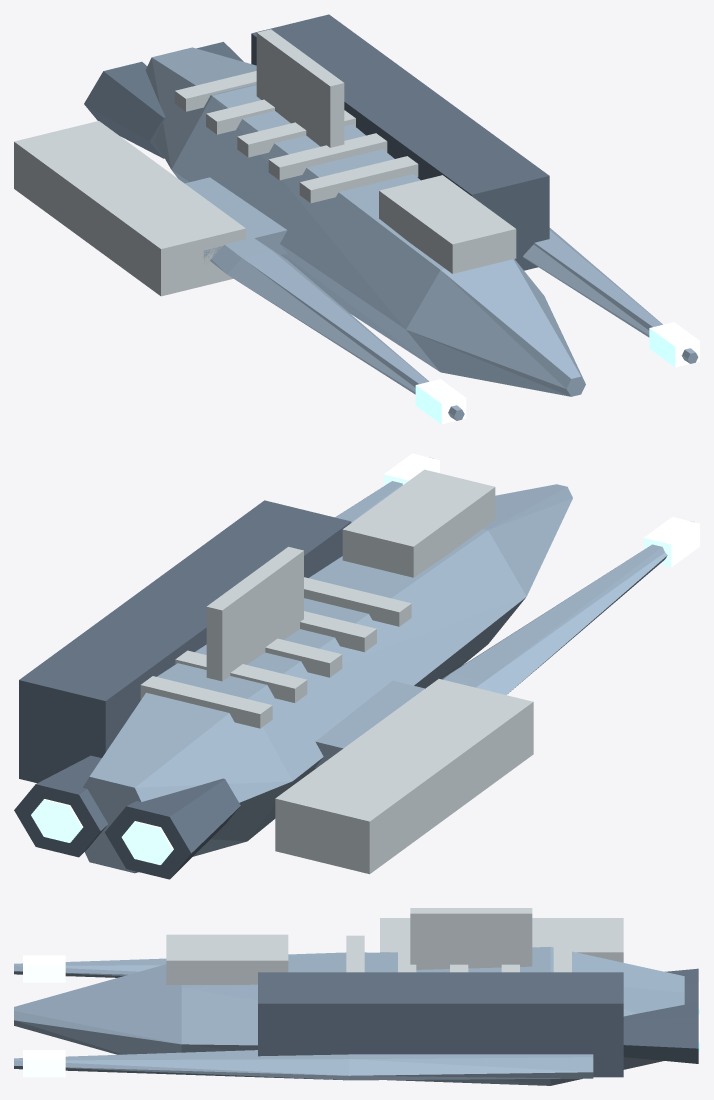
3 renders of one model, top to bottom at view 1: azimuth 30°, elevation 25°; view 2: azimuth 150°, elevation 25°; view 3: azimuth 270°, elevation 25°, orthographic. The views are drawn at different scales.
Size of the model in its own units: 2.1 by 1.12 by 4.41.
